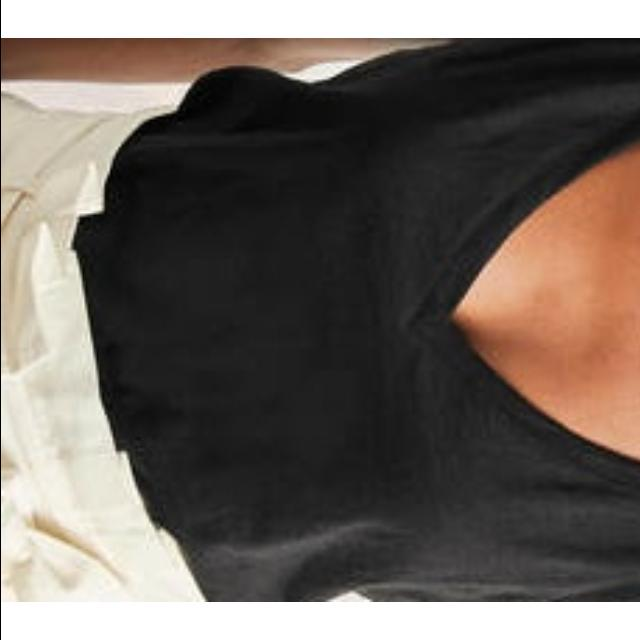cotton: (135, 66, 640, 602)
